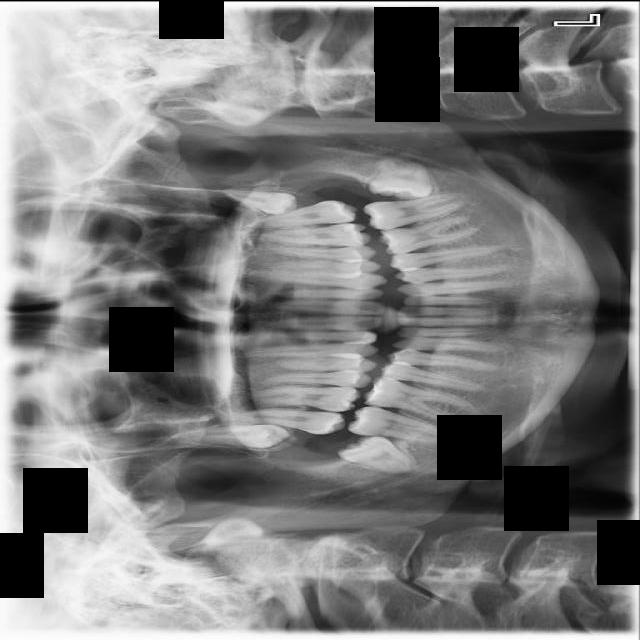3M ESPE Implant: (170, 423, 290, 449)
52: (360, 370, 407, 415), (327, 221, 372, 247), (328, 224, 349, 231)
73: (564, 34, 584, 42)
BioHorizons Implant: (245, 197, 360, 230)
BioLife Implant: (220, 187, 299, 216)
Biomet 3i Implant: (367, 155, 436, 203)
Blue Sky Bio Implant: (362, 189, 467, 232)
Caries: (219, 404, 347, 436)
Implant: (347, 402, 457, 447)
Keystone Dental Implant: (336, 423, 421, 481)
